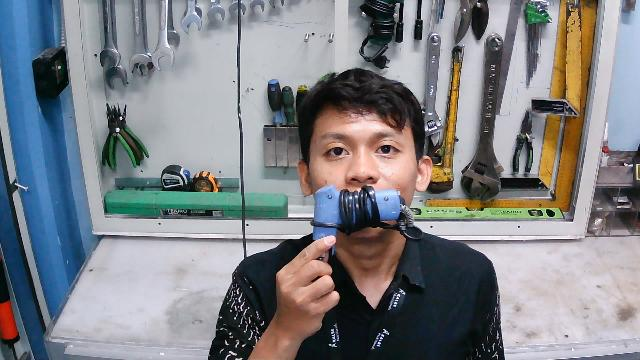solder_electrical: (312, 183, 426, 308)
